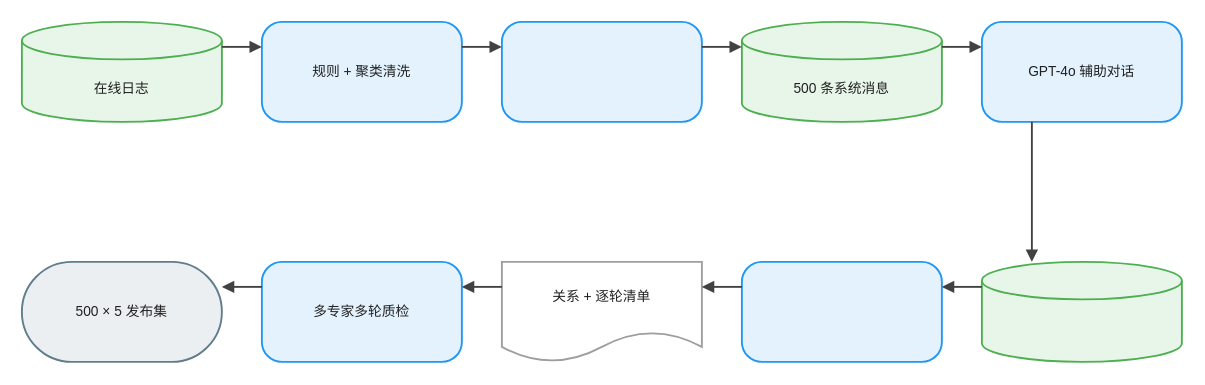
Image size: 1205x385. Some labels were removed from this diagram. Here are the shapes that lost their labels. From the top down, the centre of each, then its label:
At (601,71): "21 人选择精修".
At (841,311): "人工改写".
At (1081,311): "保留 5 轮".
